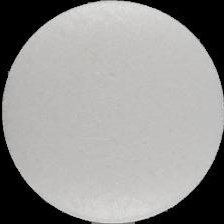54505-331: (0, 0, 224, 224)
